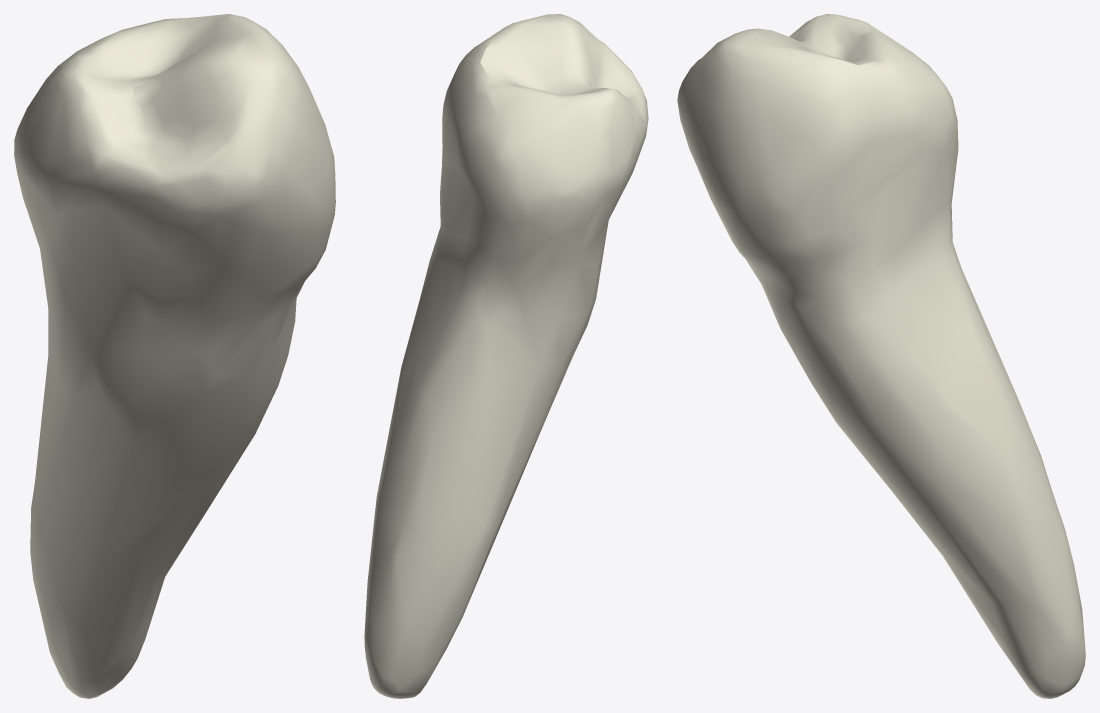
File: Left second lower premolar tooth.fbx
3 views of the same model, side by side, from view 1: azimuth 30°, elevation 25°; view 2: azimuth 150°, elevation 25°; view 3: azimuth 270°, elevation 25° (orthographic). The views are drawn at different scales.
Parts seen in each view (by area): view 1: Left second lower premolar tooth; view 2: Left second lower premolar tooth; view 3: Left second lower premolar tooth.
Part boxes in pixels (x1,y1,x2,y2): Left second lower premolar tooth: [14, 14, 335, 698]; Left second lower premolar tooth: [364, 14, 648, 698]; Left second lower premolar tooth: [677, 14, 1085, 698].
Size of the model in its own units: 1.08 by 3.11 by 1.78.
